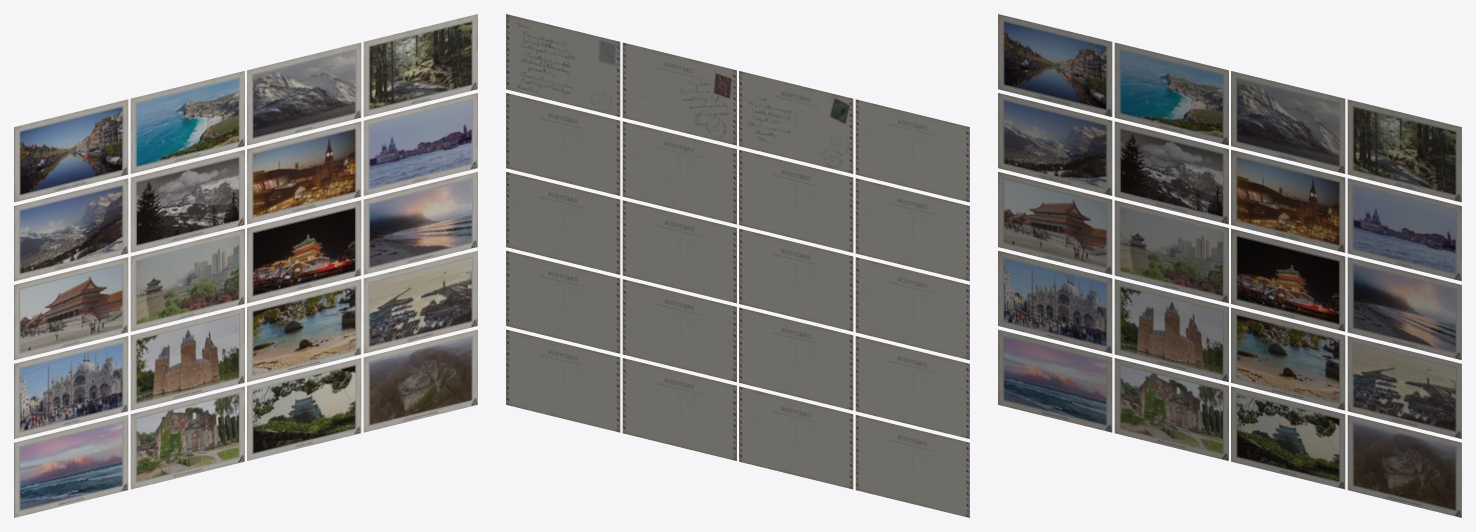
The model's file is postcard_set_01.2a15c2e7.glb.
The picture shows the model from 3 angles, left to right: view 1: azimuth 30°, elevation 25°; view 2: azimuth 150°, elevation 25°; view 3: azimuth 330°, elevation 25°; orthographic projection.
Parts seen in each view (by area): view 1: postcard_01, postcard_03, postcard_05, postcard_07, postcard_14, postcard_16, postcard_18, postcard_20, postcard_10, postcard_11, postcard_02, postcard_08 (+8 smaller); view 2: postcard_01, postcard_03, postcard_05, postcard_07, postcard_14, postcard_16, postcard_18, postcard_20, postcard_10, postcard_11, postcard_02, postcard_08 (+8 smaller); view 3: postcard_02, postcard_04, postcard_06, postcard_08, postcard_13, postcard_15, postcard_17, postcard_19, postcard_10, postcard_11, postcard_03, postcard_05 (+8 smaller).
Part boxes in pixels (box(x1,y1,x2,y2)): postcard_01: box(14, 99, 128, 202); postcard_03: box(247, 42, 361, 145); postcard_05: box(14, 178, 128, 281); postcard_07: box(247, 121, 361, 224); postcard_14: box(130, 307, 244, 410); postcard_16: box(363, 250, 477, 353); postcard_18: box(130, 386, 244, 489); postcard_20: box(363, 329, 477, 432); postcard_10: box(130, 228, 244, 331); postcard_11: box(247, 200, 361, 303); postcard_02: box(130, 71, 244, 173); postcard_08: box(363, 93, 477, 195); postcard_01: box(855, 99, 969, 202); postcard_03: box(622, 42, 736, 145); postcard_05: box(855, 178, 969, 281); postcard_07: box(622, 121, 736, 224); postcard_14: box(739, 307, 853, 410); postcard_16: box(506, 250, 620, 353); postcard_18: box(739, 386, 853, 489); postcard_20: box(506, 329, 620, 432); postcard_10: box(739, 228, 853, 331); postcard_11: box(622, 200, 736, 303); postcard_02: box(739, 71, 853, 173); postcard_08: box(506, 93, 620, 195); postcard_02: box(1114, 42, 1228, 145); postcard_04: box(1347, 99, 1461, 202); postcard_06: box(1114, 121, 1228, 224); postcard_08: box(1347, 178, 1461, 281); postcard_13: box(998, 250, 1112, 353); postcard_15: box(1231, 307, 1345, 410); postcard_17: box(998, 329, 1112, 432); postcard_19: box(1231, 386, 1345, 489); postcard_10: box(1114, 200, 1228, 303); postcard_11: box(1231, 228, 1345, 331); postcard_03: box(1231, 71, 1345, 173); postcard_05: box(998, 93, 1112, 195).
Bounding box in the file's own units: 0.95 × 0.7651 × 0.0002.
1 material, 1 textured.
